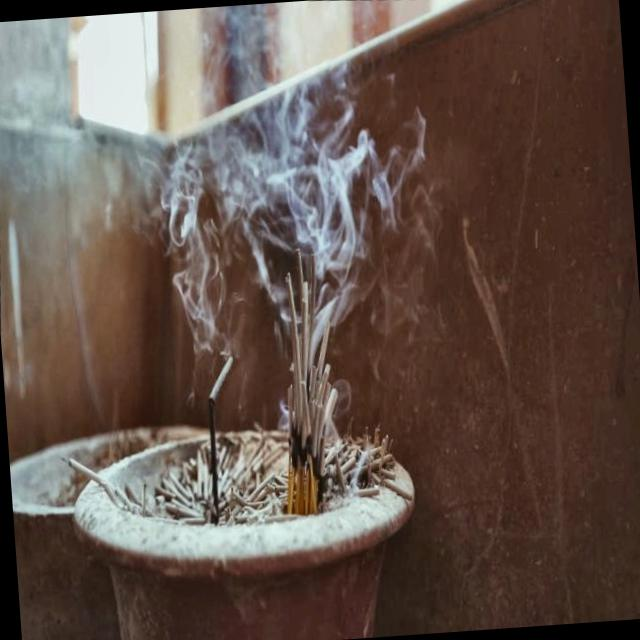smoke: (135, 70, 394, 307)
